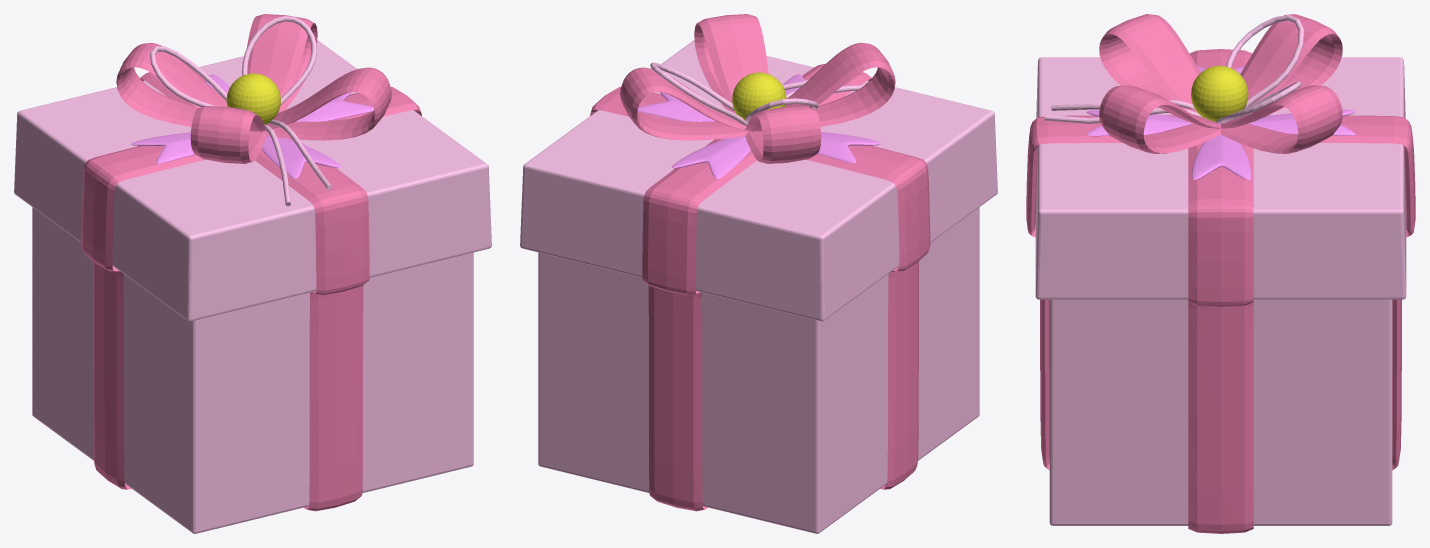
File: gift.glb
3 renders of one model, left to right at view 1: azimuth 30°, elevation 25°; view 2: azimuth 150°, elevation 25°; view 3: azimuth 270°, elevation 25°, orthographic. The views are drawn at different scales.
Parts seen in each view (by area): view 1: Pink01, Pink02, Pink03, Yellow01; view 2: Pink01, Pink02, Pink03, Yellow01; view 3: Pink01, Pink02, Pink03, Yellow01.
Boxes of the visible parts, x1,y1,x2,y2 form: Pink01: (14, 16, 491, 533); Pink02: (81, 14, 421, 511); Pink03: (131, 74, 373, 178); Yellow01: (226, 73, 280, 124); Pink01: (520, 40, 997, 533); Pink02: (590, 14, 930, 511); Pink03: (638, 74, 881, 178); Yellow01: (732, 72, 786, 120); Pink01: (1035, 15, 1406, 525); Pink02: (1026, 14, 1415, 533); Pink03: (1086, 66, 1355, 179); Yellow01: (1191, 65, 1248, 121).
Bounding box in the file's own units: 227 × 266 × 227.
